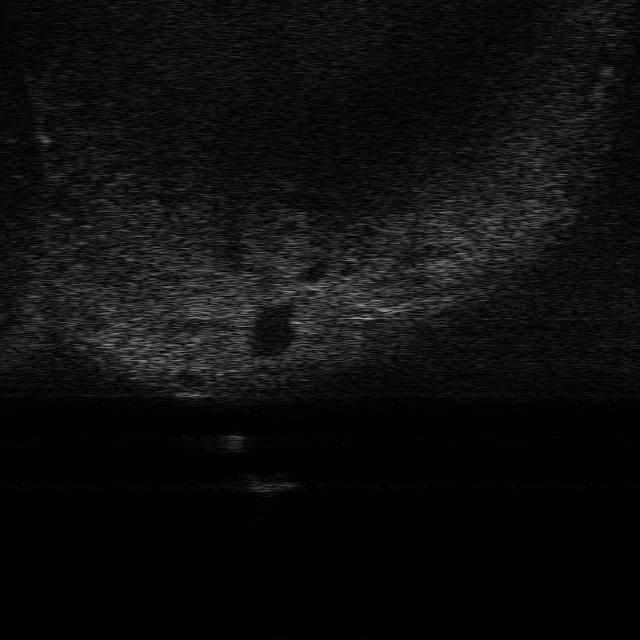cube: (248, 472, 298, 493)
